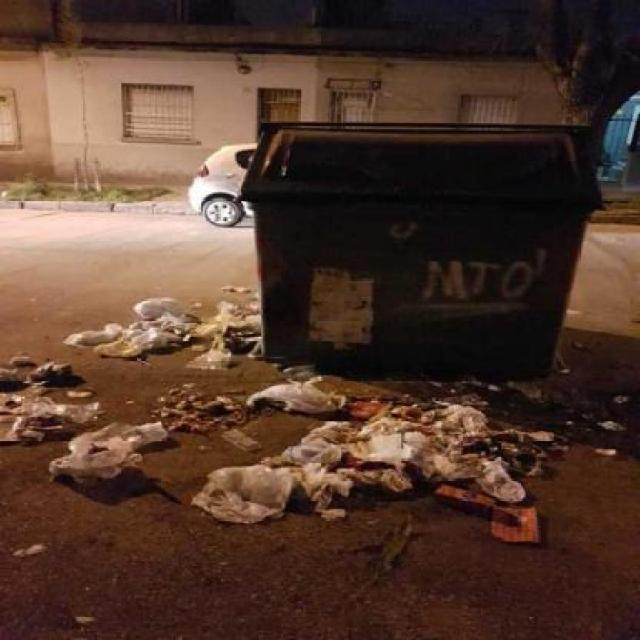garbage: (157, 380, 574, 534), (2, 355, 163, 480), (62, 291, 266, 364)
